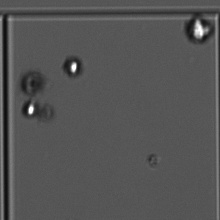Dead Cell: (20, 69, 50, 97), (38, 102, 53, 121)
Living Cell: (184, 11, 212, 44), (20, 99, 42, 118), (63, 54, 80, 78)
